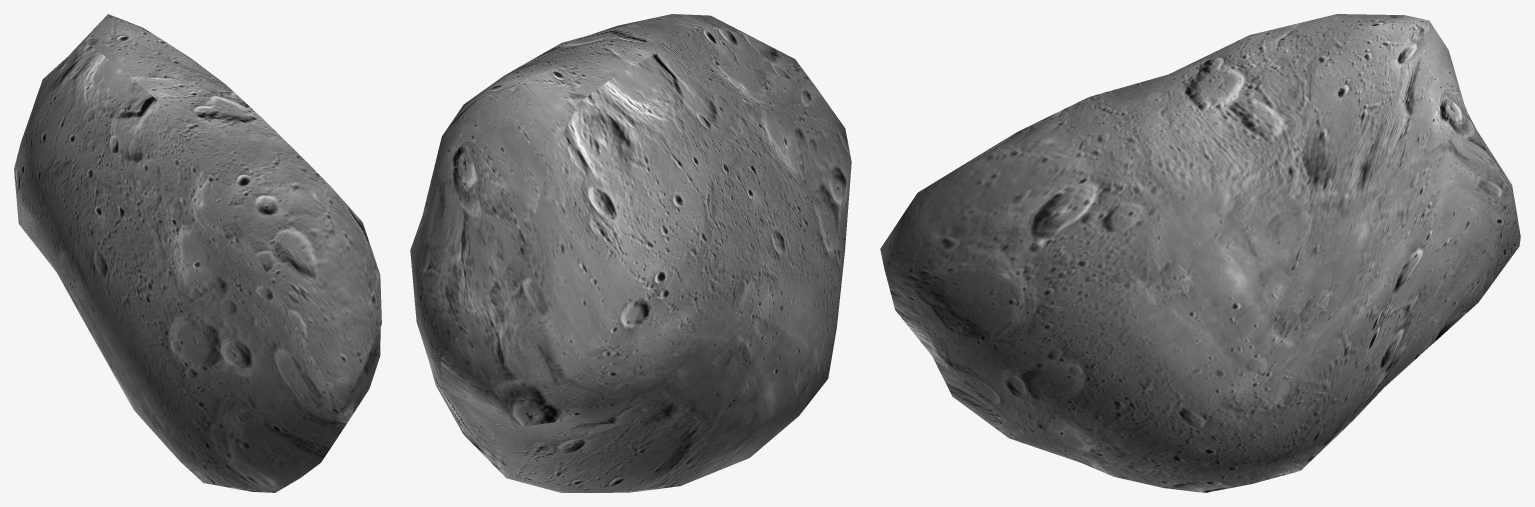
File: asteroid02.FBX
3 views of the same model, side by side, from view 1: azimuth 30°, elevation 25°; view 2: azimuth 150°, elevation 25°; view 3: azimuth 270°, elevation 25° (orthographic). The views are drawn at different scales.
Parts seen in each view (by area): view 1: Asteroid002; view 2: Asteroid002; view 3: Asteroid002.
Part boxes in pixels (box(x1,y1,x2,y2)): Asteroid002: box(14, 14, 381, 492); Asteroid002: box(410, 14, 851, 492); Asteroid002: box(880, 14, 1520, 492).
Size of the model in its own units: 74.37 by 111 by 145.
1 material, 1 textured.
